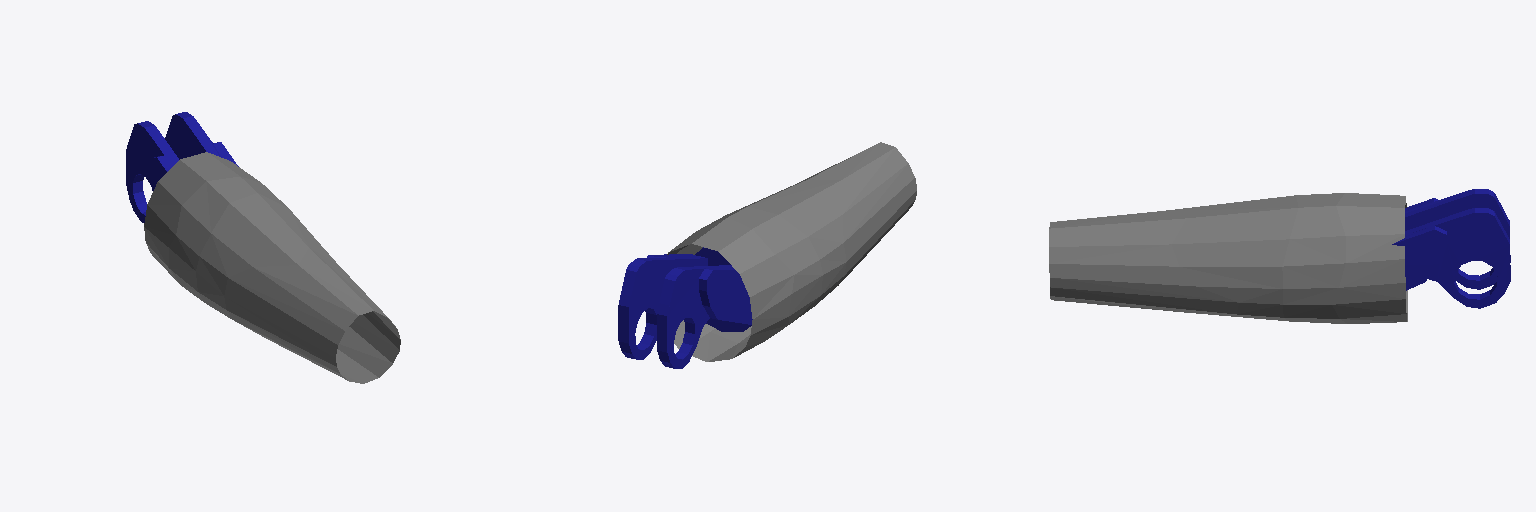
The picture shows the model from 3 angles: view 1: azimuth 30°, elevation 25°; view 2: azimuth 150°, elevation 25°; view 3: azimuth 270°, elevation 25°; orthographic projection.
Parts seen in each view (by area): view 1: L_EB.2_ShapeIndexedFaceS.081, L_EB.1_ShapeIndexedFaceS.080; view 2: L_EB.2_ShapeIndexedFaceS.081, L_EB.1_ShapeIndexedFaceS.080; view 3: L_EB.2_ShapeIndexedFaceS.081, L_EB.1_ShapeIndexedFaceS.080.
Part boxes in pixels (left/top/right/bottom): L_EB.2_ShapeIndexedFaceS.081: left=144, top=152, right=400, bottom=383; L_EB.1_ShapeIndexedFaceS.080: left=126, top=112, right=238, bottom=222; L_EB.2_ShapeIndexedFaceS.081: left=667, top=142, right=916, bottom=361; L_EB.1_ShapeIndexedFaceS.080: left=618, top=247, right=752, bottom=368; L_EB.2_ShapeIndexedFaceS.081: left=1049, top=193, right=1407, bottom=323; L_EB.1_ShapeIndexedFaceS.080: left=1392, top=189, right=1510, bottom=308.
Bounding box in the file's own units: 3.3 × 3.31 × 11.44.